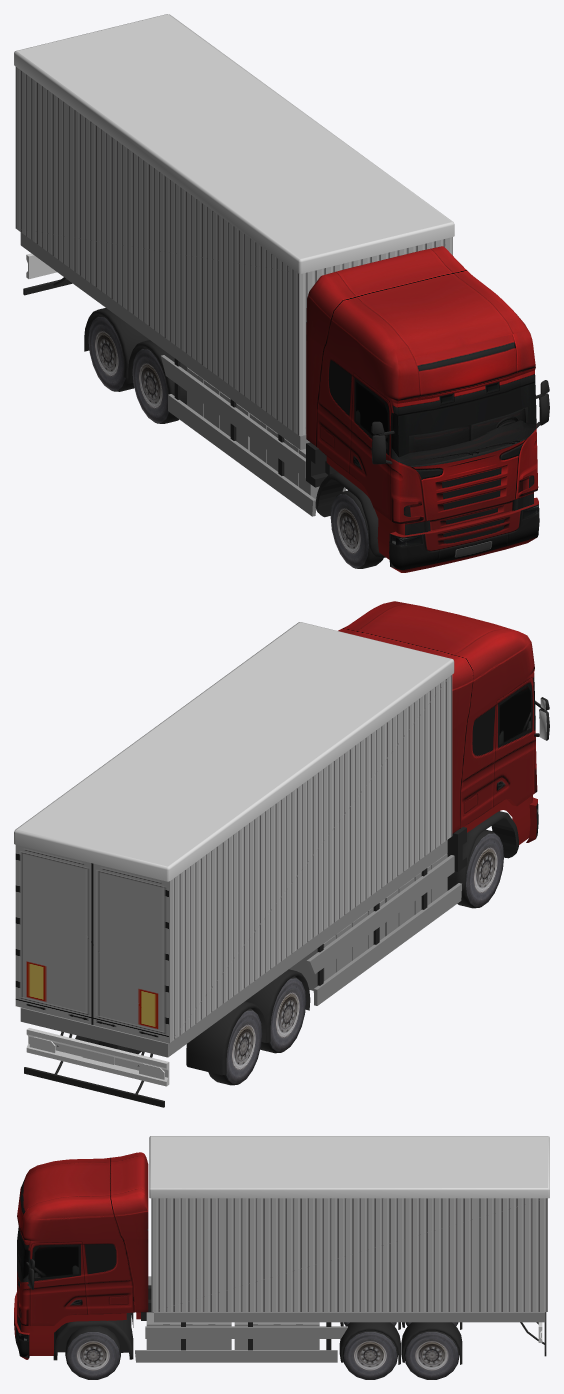
File: kache3.gltf
3 renders of one model, top to bottom at view 1: azimuth 30°, elevation 25°; view 2: azimuth 150°, elevation 25°; view 3: azimuth 270°, elevation 25°, orthographic. The views are drawn at different scales.
Visible parts, largest first — view 1: Box3921; view 2: Box3921; view 3: Box3921.
Boxes of the visible parts, x1,y1,x2,y2 form: Box3921: [14, 14, 549, 572]; Box3921: [14, 601, 549, 1107]; Box3921: [14, 1136, 549, 1379].
Bounding box in the file's own units: 2.83 × 4.26 × 10.59.
7 materials, 7 textured.
